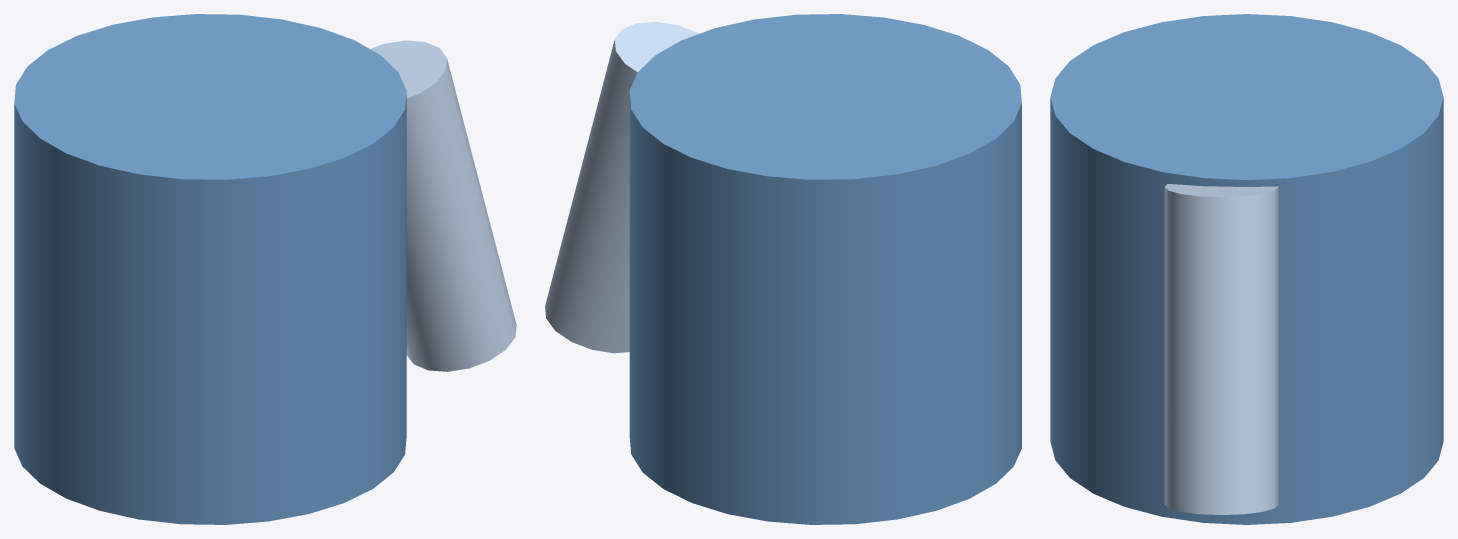
The model's file is flyer-shape-offset-battery-can-v1.glb.
The picture shows the model from 3 angles, left to right: view 1: azimuth 30°, elevation 25°; view 2: azimuth 150°, elevation 25°; view 3: azimuth 270°, elevation 25°; orthographic projection.
Parts seen in each view (by area): view 1: Offset Battery Can; view 2: Offset Battery Can; view 3: Offset Battery Can.
Boxes of the visible parts, x1,y1,x2,y2 form: Offset Battery Can: [14, 14, 516, 524]; Offset Battery Can: [545, 14, 1021, 524]; Offset Battery Can: [1050, 14, 1443, 524].
Size of the model in its own units: 1.66 by 1.22 by 1.24.
